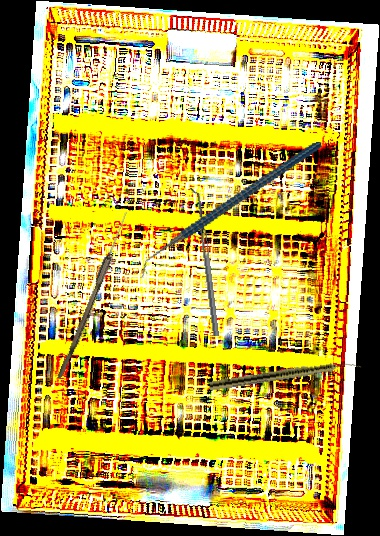Chopper: (117, 141, 343, 279)
Handpiece: (209, 357, 362, 393)
Spatula Surgical: (188, 186, 220, 338)
Surgical Spoon: (57, 210, 130, 381)
